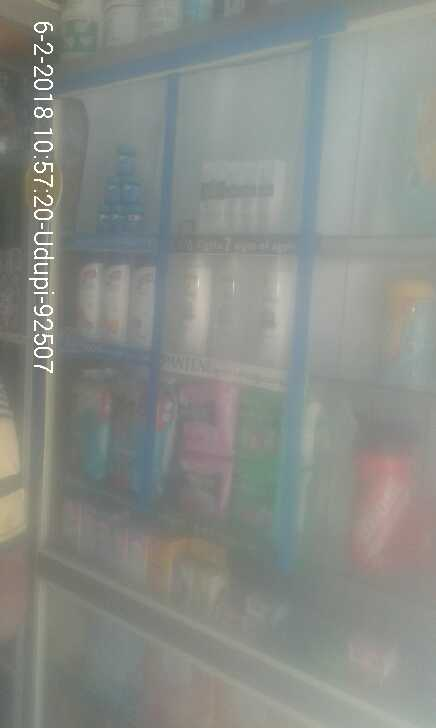beauty: (209, 256, 246, 359), (258, 254, 287, 370), (176, 258, 209, 357), (244, 156, 281, 241), (73, 256, 103, 338), (127, 259, 153, 351), (195, 159, 224, 234), (222, 154, 244, 237), (105, 253, 122, 339)
pharmacy: (112, 365, 169, 501), (53, 379, 105, 479), (172, 375, 230, 453), (167, 450, 222, 525), (228, 463, 279, 542), (230, 387, 281, 457), (116, 136, 136, 176), (123, 173, 140, 206), (89, 203, 106, 231), (108, 203, 123, 233), (126, 208, 140, 240), (105, 171, 118, 202)
